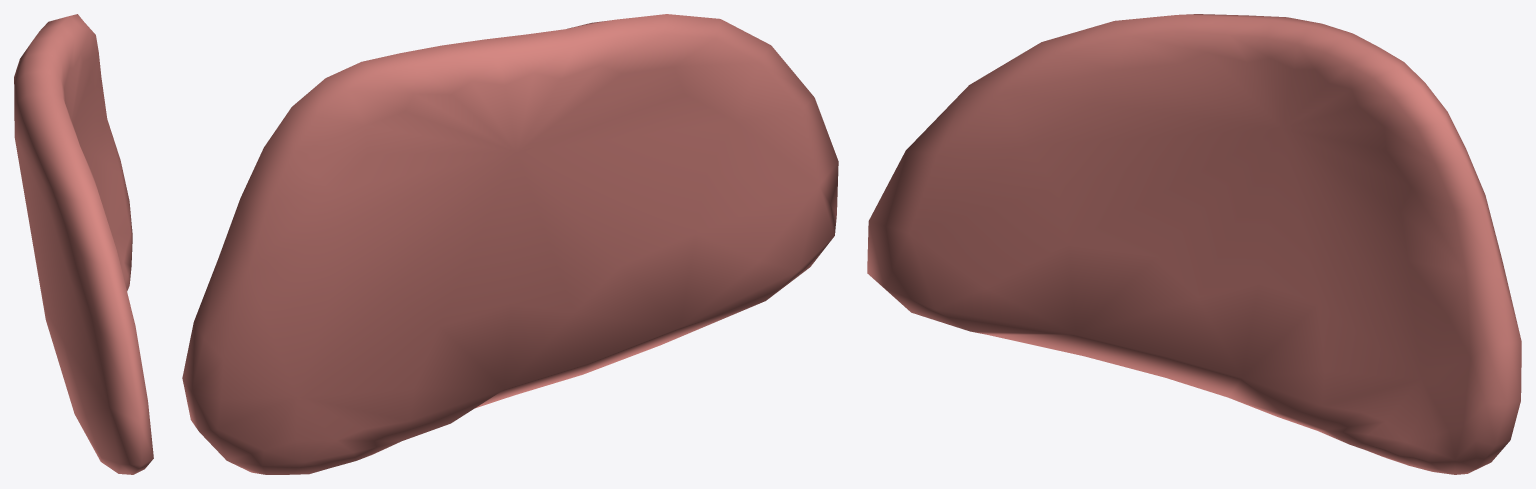
The picture shows the model from 3 angles, left to right: view 1: azimuth 30°, elevation 25°; view 2: azimuth 150°, elevation 25°; view 3: azimuth 270°, elevation 25°; orthographic projection. The views are drawn at different scales.
Parts seen in each view (by area): view 1: ZA_a4b50c3290e0037d; view 2: ZA_a4b50c3290e0037d; view 3: ZA_a4b50c3290e0037d.
Part boxes in pixels (<box>): ZA_a4b50c3290e0037d: <box>14,14,153,474</box>; ZA_a4b50c3290e0037d: <box>182,14,838,474</box>; ZA_a4b50c3290e0037d: <box>867,14,1521,474</box>.
Size of the model in its own units: 0.00275 by 0.00332 by 0.00508.
